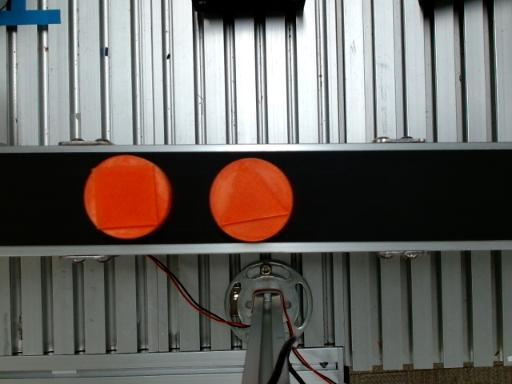Not_Square: (219, 157, 289, 224)
Orange_Waper: (83, 155, 173, 238), (209, 158, 294, 242)
Square: (93, 163, 160, 229)
